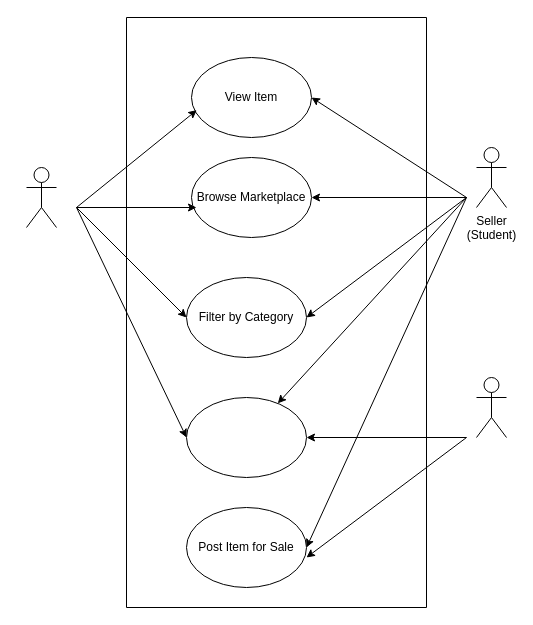
This 533x625 diagram has some shape labels left out. The centre of each missing label's shape, as x and y in pixels:
Buyer (Student): [41,197]
Local Seller: [491,407]
send Message: [246,437]
